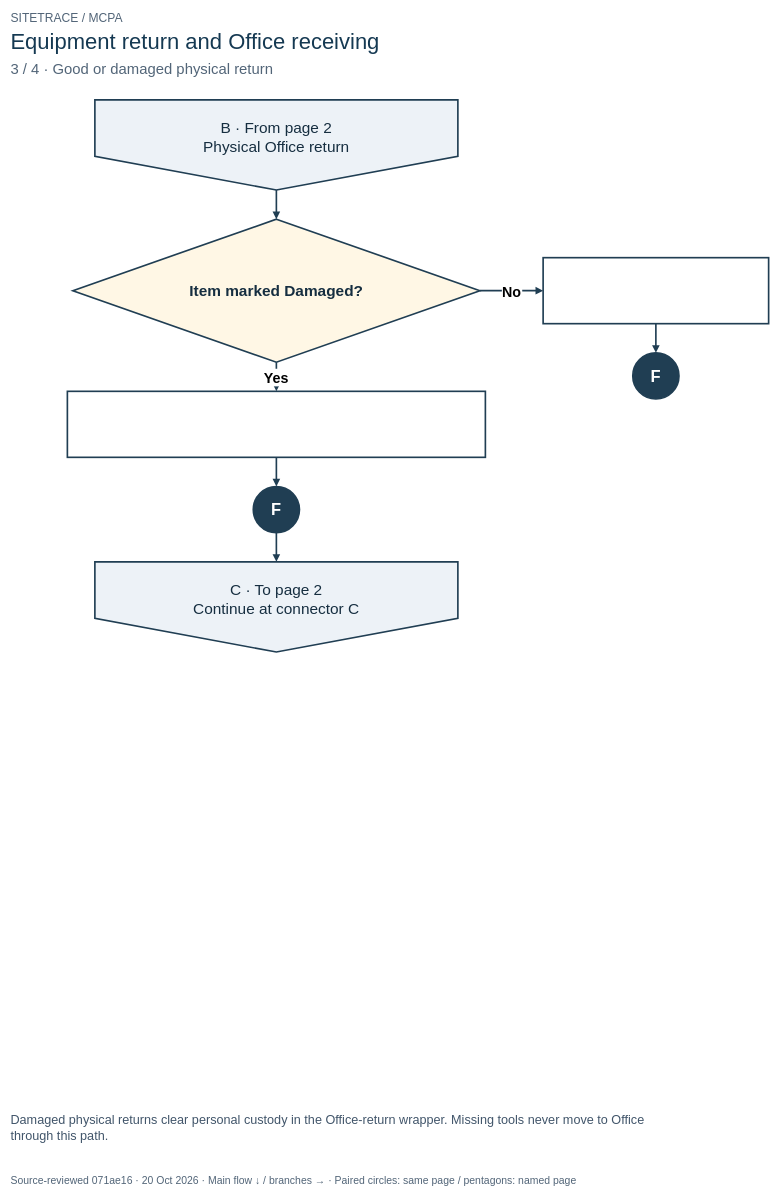
Some shapes in this 779 by 1198 pixel diagram are drawn without their labels. The centre of each missing label's shape, as x and y in pixels:
"Move to Office; clear holder; set AVAILABLE." belongs at point 655,290.
"Move to Office; clear personal holder; set REPAIR and open a repair case." belongs at point 276,424.
